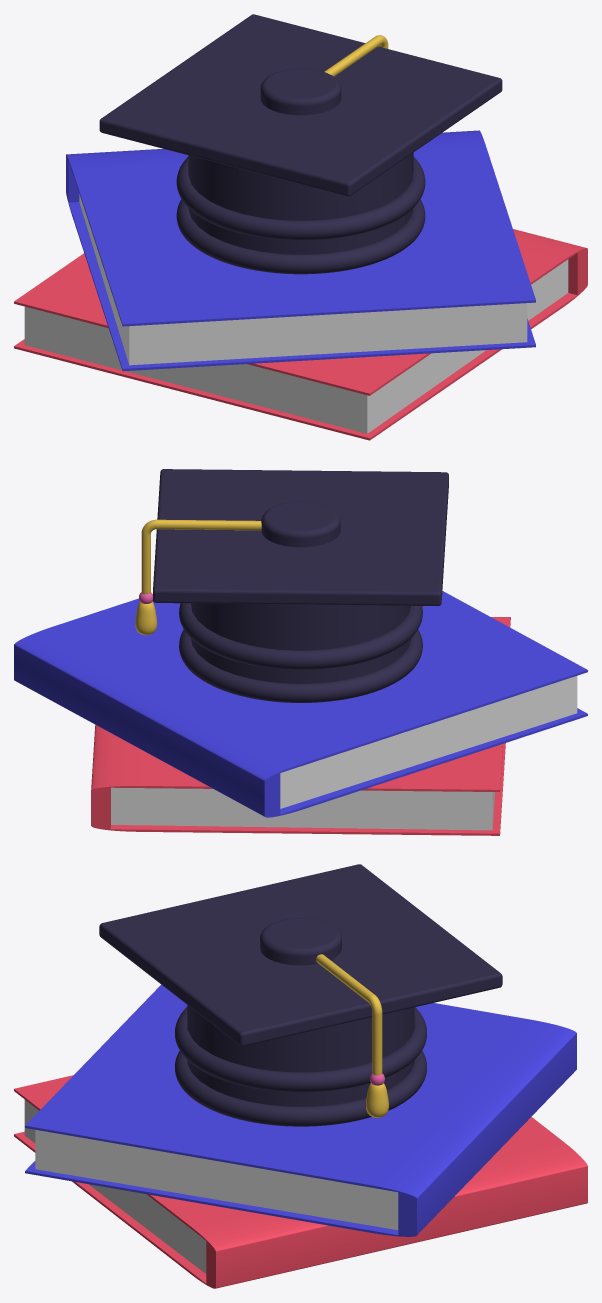
Rendered from education.gltf.
3 views of the same model, one above another, from view 1: azimuth 30°, elevation 25°; view 2: azimuth 150°, elevation 25°; view 3: azimuth 270°, elevation 25° (orthographic). The views are drawn at different scales.
Visible parts, largest first — view 1: Cube.001, Torus, Cube, Sphere; view 2: Cube.001, Torus, Cube, Sphere; view 3: Cube.001, Torus, Cube, Sphere.
Boxes of the visible parts, <box> form: Cube.001: <box>66,130,535,371</box>; Torus: <box>99,14,502,274</box>; Cube: <box>14,229,587,440</box>; Sphere: <box>324,35,388,76</box>; Cube.001: <box>14,591,587,817</box>; Torus: <box>153,469,448,702</box>; Cube: <box>91,617,510,835</box>; Sphere: <box>135,519,261,635</box>; Cube.001: <box>25,984,576,1236</box>; Torus: <box>99,864,502,1126</box>; Cube: <box>14,1075,587,1288</box>; Sphere: <box>316,954,388,1117</box>.
Bounding box in the file's own units: 2.71 × 1.25 × 2.71.
